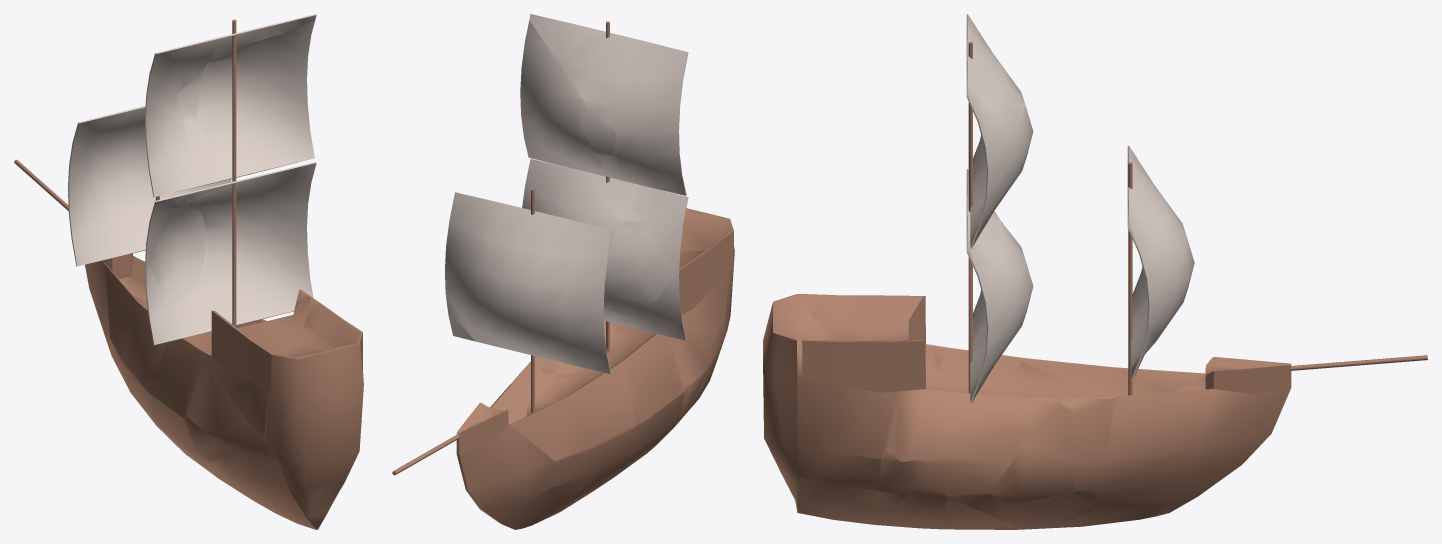
File: mode_boat.FBX
3 views of the same model, side by side, from view 1: azimuth 30°, elevation 25°; view 2: azimuth 150°, elevation 25°; view 3: azimuth 270°, elevation 25° (orthographic). The views are drawn at different scales.
Parts seen in each view (by area): view 1: Box002_Part_9, Box002_Part_20, Box002_Part_13, Box002_Part_3, Box002_Part_15, Box002_Part_16, Box002_Part_2, Box002_Part_10, Box002_Part_1, Box002_Part_5, Box002_Part_19, Box002_Part_4; view 2: Box002_Part_20, Box002_Part_13, Box002_Part_9, Box002_Part_10, Box002_Part_15, Box002_Part_4, Box002_Part_2, Box002_Part_3, Box002_Part_5, Box002_Part_18, Box002_Part_19; view 3: Box002_Part_10, Box002_Part_9, Box002_Part_1, Box002_Part_20, Box002_Part_13, Box002_Part_11, Box002_Part_16, Box002_Part_6, Box002_Part_3, Box002_Part_15, Box002_Part_8, Box002_Part_18 (+3 smaller).
Boxes of the visible parts, x1,y1,x2,y2 form: Box002_Part_9: (189,20,316,328); Box002_Part_20: (68,78,231,390); Box002_Part_13: (145,14,316,437); Box002_Part_3: (265,340,363,490); Box002_Part_15: (144,264,211,417); Box002_Part_16: (208,450,339,529); Box002_Part_2: (187,353,273,459); Box002_Part_10: (14,159,146,366); Box002_Part_1: (296,297,363,373); Box002_Part_5: (145,390,220,479); Box002_Part_19: (184,415,234,464); Box002_Part_4: (111,342,179,448); Box002_Part_20: (445,114,672,461); Box002_Part_13: (529,14,733,326); Box002_Part_9: (520,20,624,374); Box002_Part_10: (392,308,556,524); Box002_Part_15: (578,276,686,428); Box002_Part_4: (549,431,633,498); Box002_Part_2: (617,324,725,386); Box002_Part_3: (680,208,734,339); Box002_Part_5: (611,392,684,478); Box002_Part_18: (502,490,576,529); Box002_Part_19: (668,368,710,431); Box002_Part_10: (1074,347,1427,503); Box002_Part_9: (888,101,1061,461); Box002_Part_1: (776,334,904,479); Box002_Part_20: (1002,146,1232,413); Box002_Part_13: (798,14,1025,350); Box002_Part_11: (990,406,1075,506); Box002_Part_16: (784,469,906,527); Box002_Part_6: (901,429,1032,492); Box002_Part_3: (763,294,840,479); Box002_Part_15: (938,290,1028,396); Box002_Part_8: (896,486,1016,529); Box002_Part_18: (1056,497,1195,527).
Bounding box in the file's own units: 103 × 282 × 351.
1 material, 1 textured.
